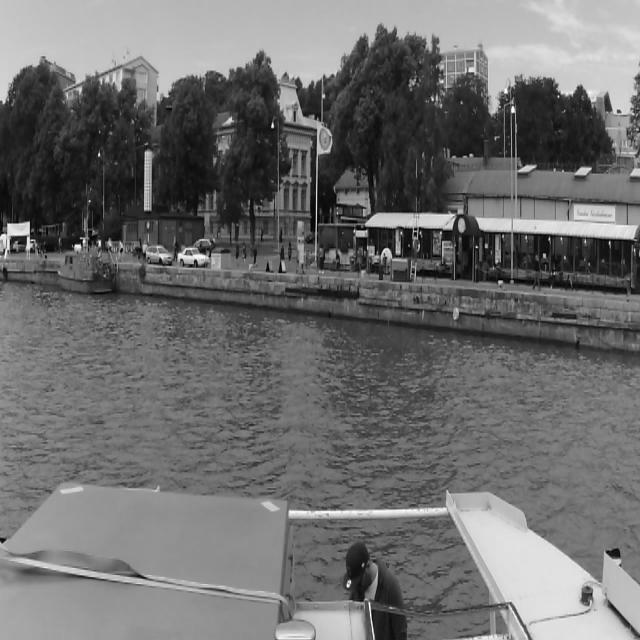ship: (59, 247, 115, 293)
